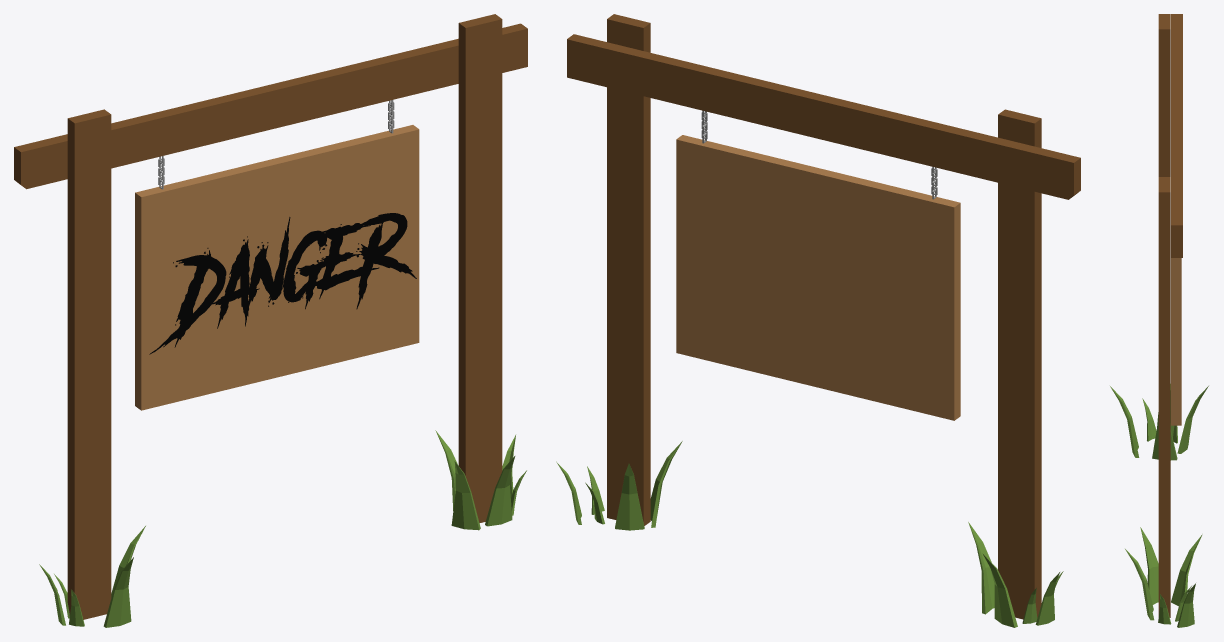
Rendered from woodSignTwo.glb.
The picture shows the model from 3 angles, left to right: view 1: azimuth 30°, elevation 25°; view 2: azimuth 150°, elevation 25°; view 3: azimuth 270°, elevation 25°; orthographic projection. The views are drawn at different scales.
Visible parts, largest first — view 1: Sign4, Text; view 2: Sign4; view 3: Sign4.
Part boxes in pixels (bbox=[...]): Sign4: bbox=[14, 14, 527, 627]; Text: bbox=[149, 213, 416, 354]; Sign4: bbox=[556, 14, 1080, 627]; Sign4: bbox=[1110, 14, 1208, 627].
Bounding box in the file's own units: 2.22 × 2.08 × 0.4436.
